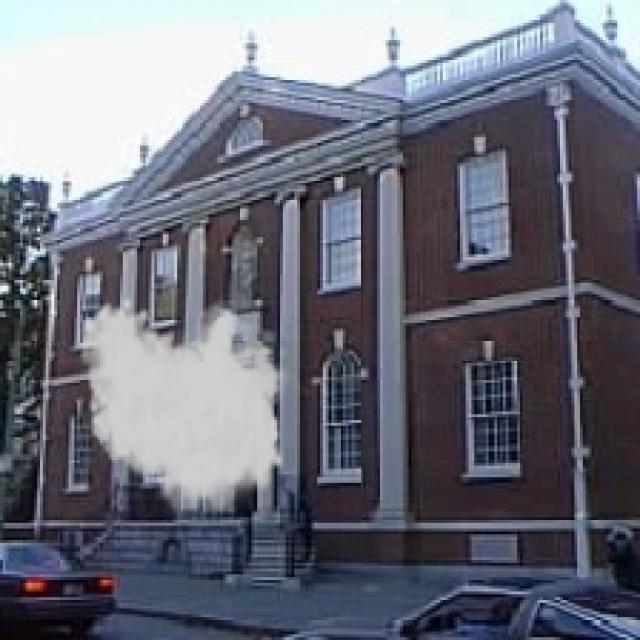smoke: (77, 294, 297, 523)
